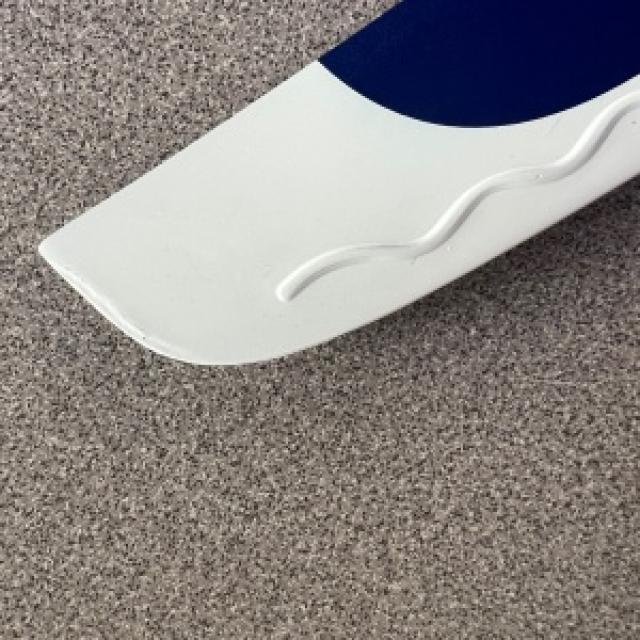healthy: (36, 0, 638, 363)
